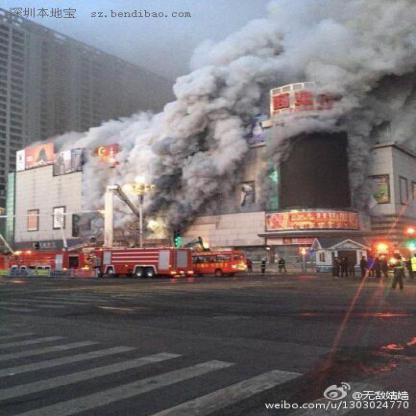smoke: (176, 0, 412, 104), (94, 110, 237, 215), (266, 108, 390, 140), (248, 141, 278, 212), (342, 140, 369, 204)
